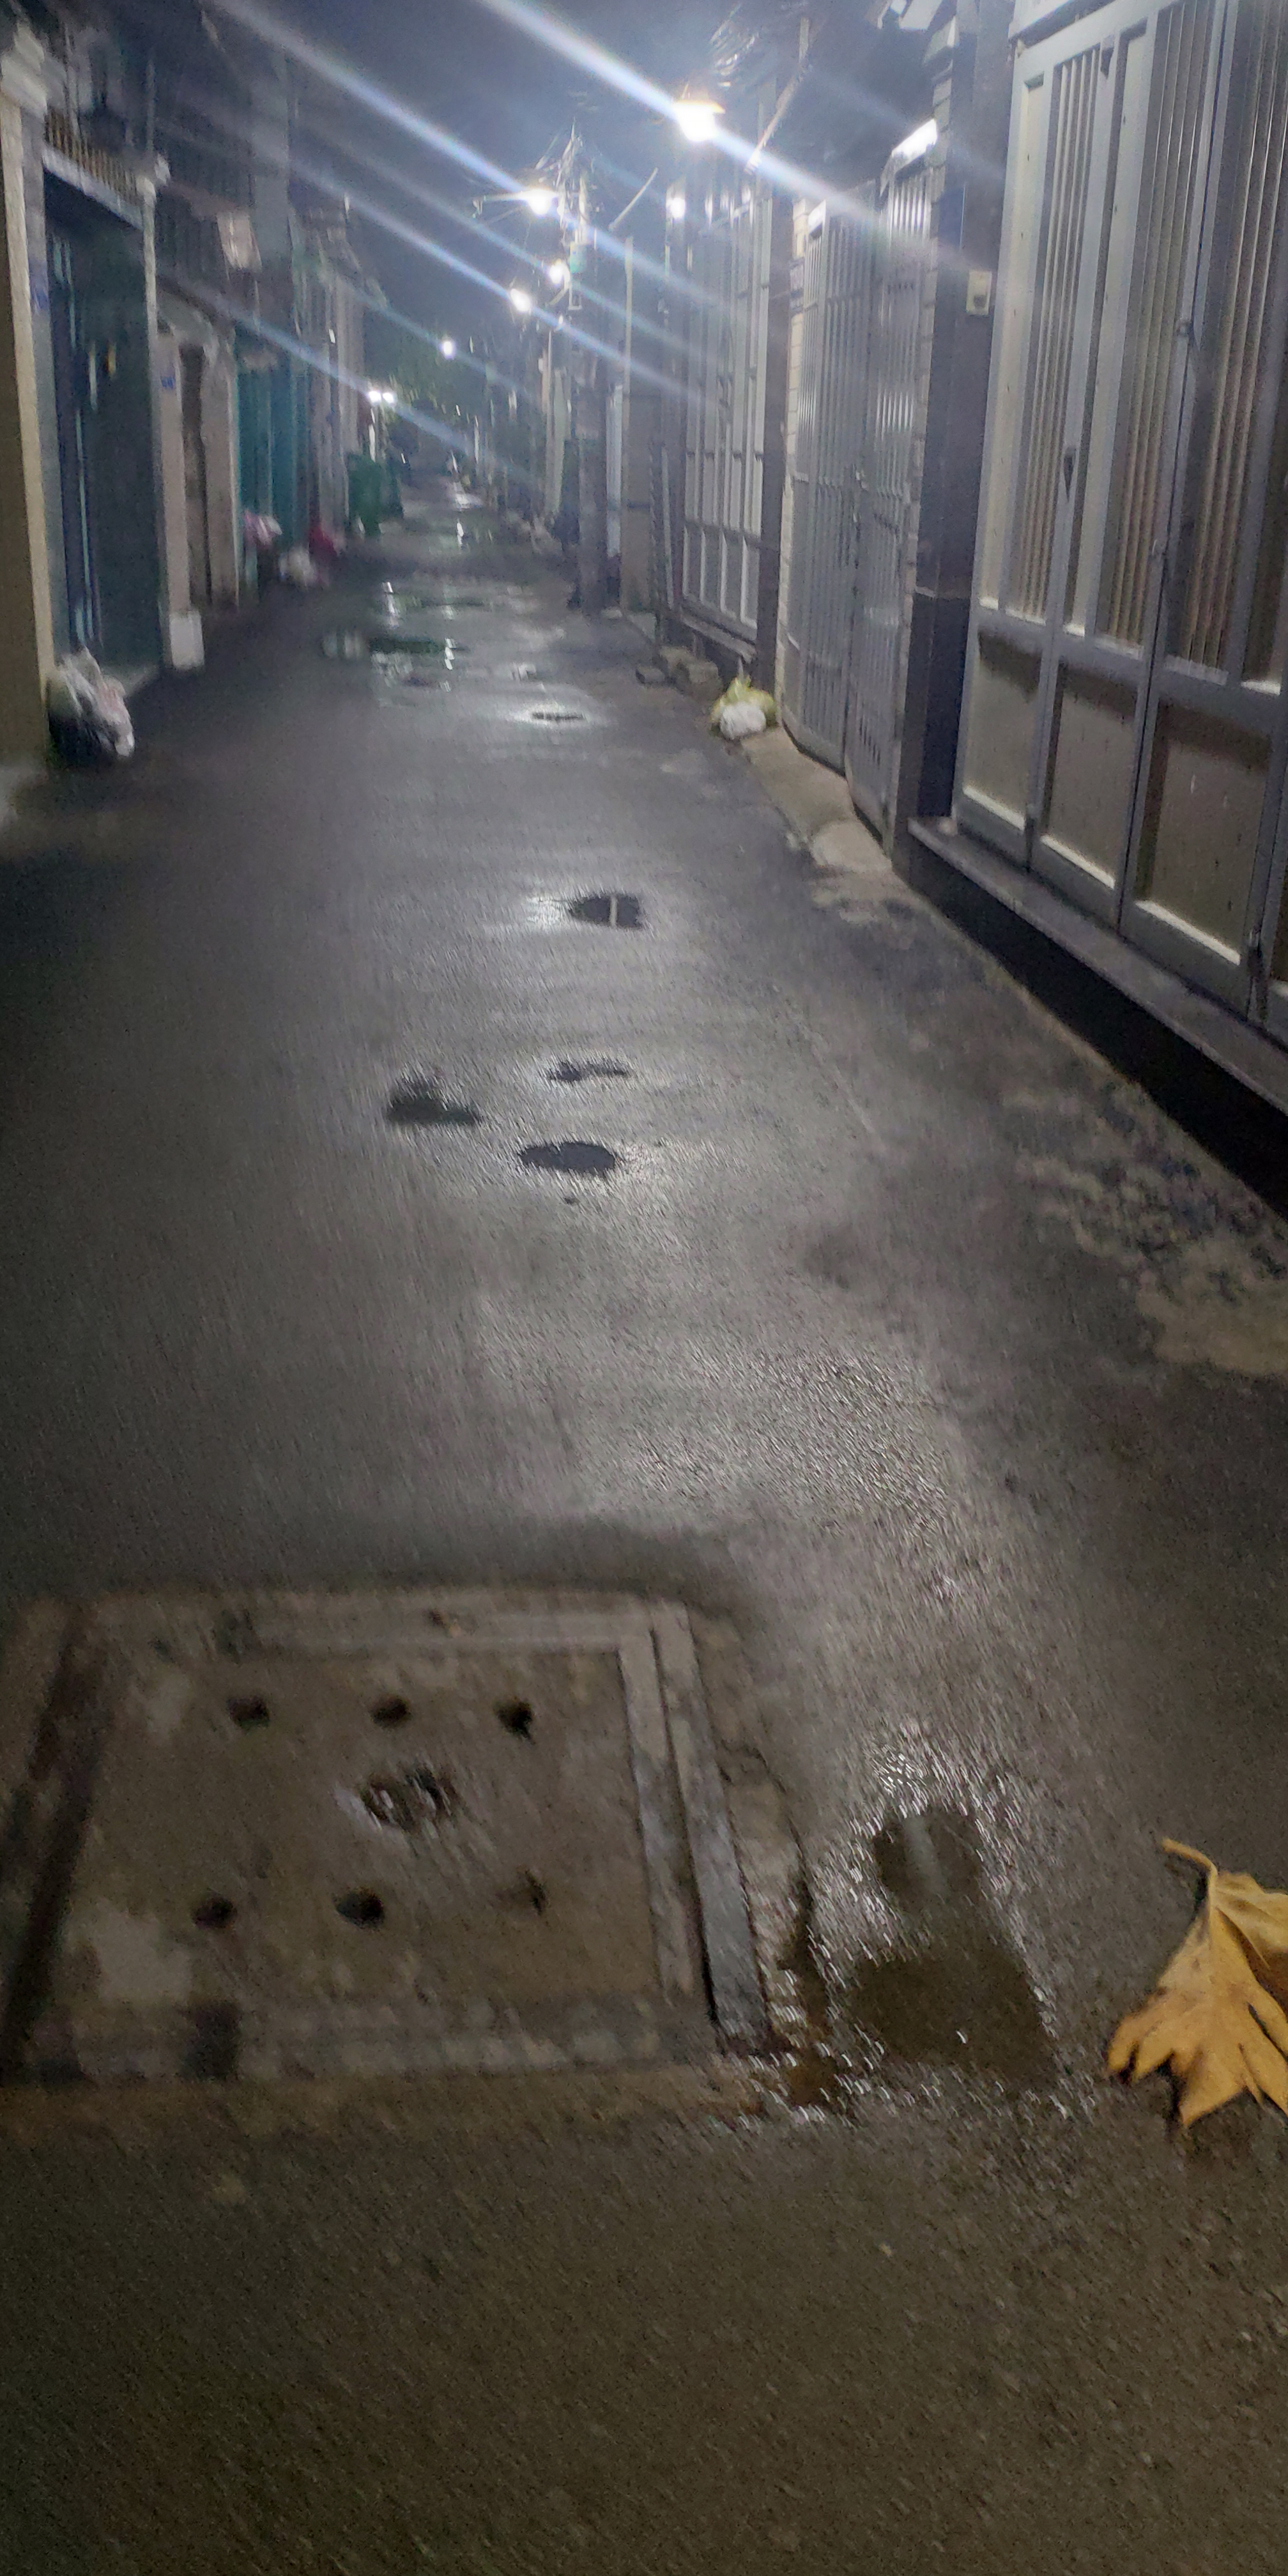hole: (820, 1759, 1066, 2114), (508, 1132, 647, 1193), (549, 872, 667, 936), (379, 1065, 485, 1135), (540, 1040, 655, 1096), (314, 631, 475, 665), (360, 591, 506, 624), (517, 705, 596, 728), (381, 675, 457, 693)
